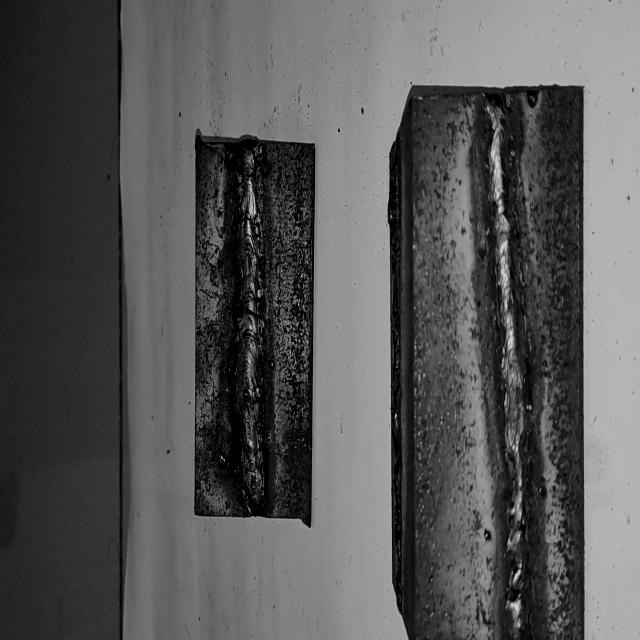Good Weld: (486, 99, 536, 640), (238, 148, 266, 512)
